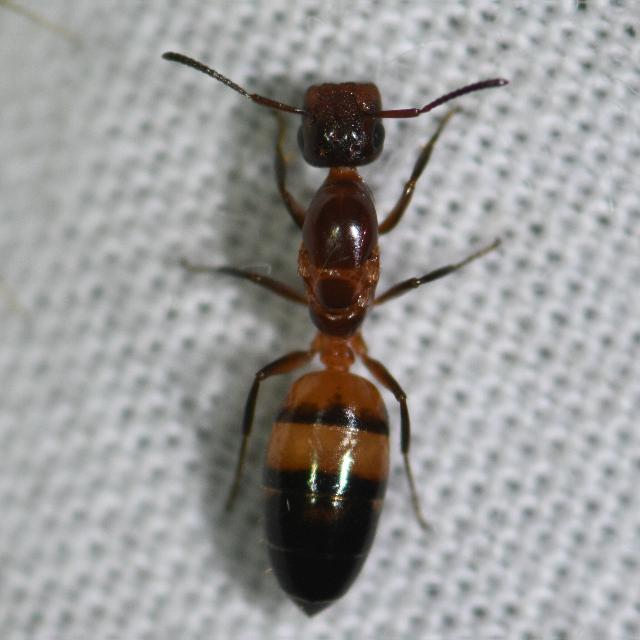Colobopsis: (197, 20, 465, 636)
